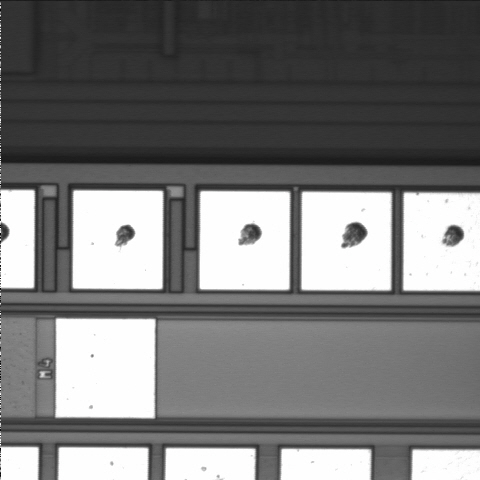pad: (56, 319, 155, 418), (200, 191, 290, 290), (73, 191, 163, 289), (302, 192, 391, 290)
